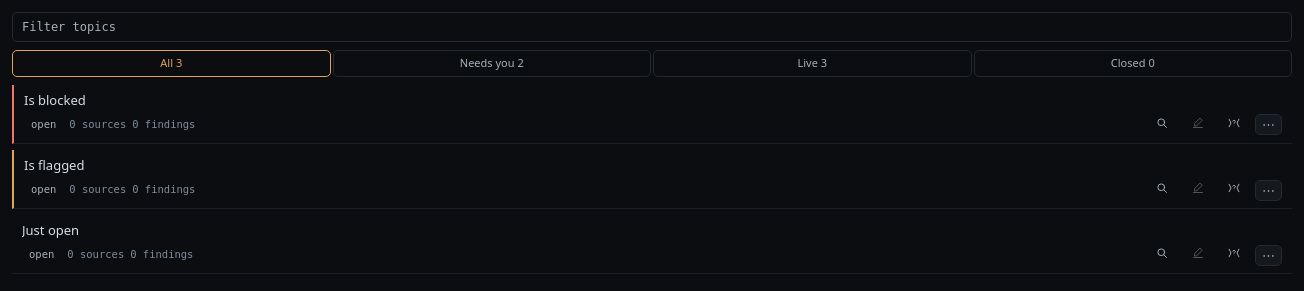
Scenario: narrows the queue to what needs a person, counting blocked and flagged alike
Check: the text "Just open" is shown, box [22,221,79,239]
Click the radio button labelled "Needs you 2" at (492, 63), box [332,50,651,76]
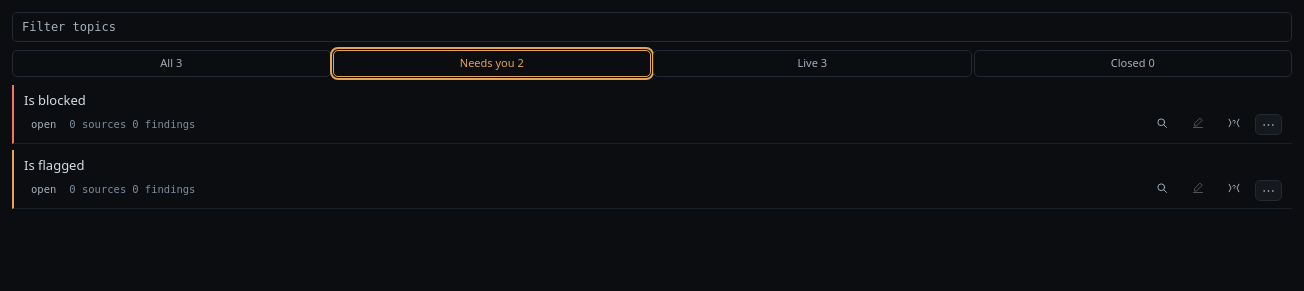
Check: the text "Is blocked" is shown, box [24,90,86,108]
Check: the text "Just open" is gone
